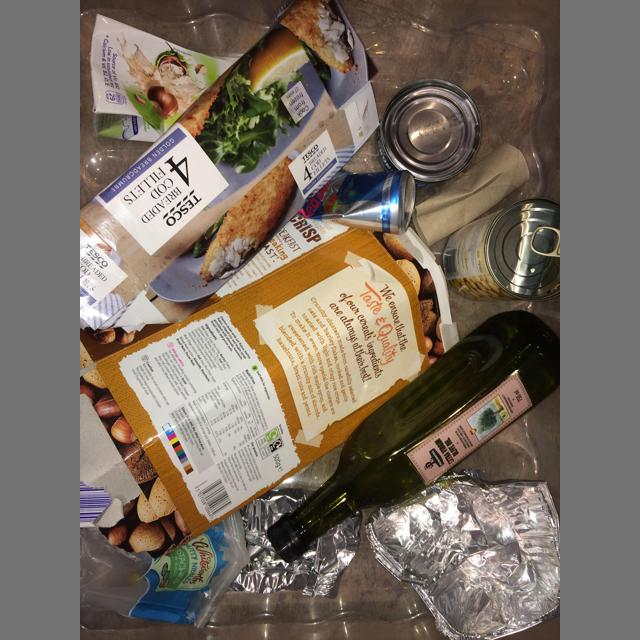litter: (80, 214, 460, 559), (80, 0, 380, 331), (267, 310, 560, 563), (364, 468, 560, 640), (80, 510, 250, 631), (90, 14, 239, 142), (225, 488, 363, 600), (412, 143, 530, 248), (443, 197, 560, 302), (375, 79, 482, 190), (296, 169, 416, 235), (267, 522, 301, 564), (530, 226, 560, 257)
